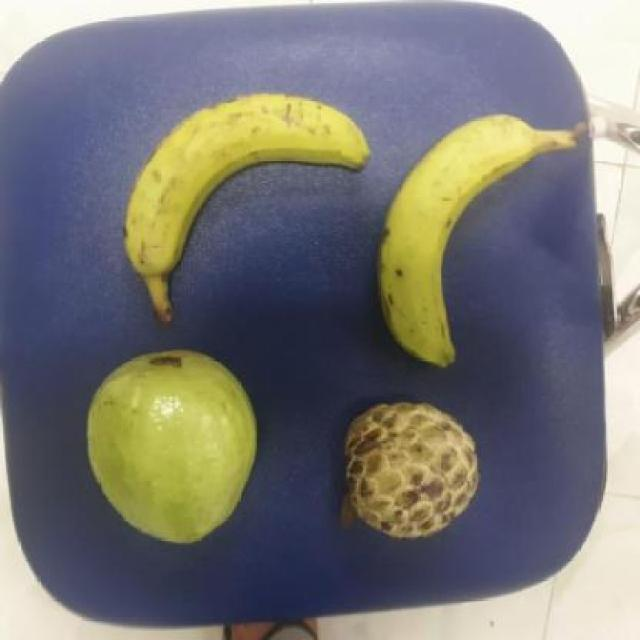banana: (118, 85, 378, 290), (373, 109, 547, 374)
guava: (85, 345, 260, 550)
sugar apple: (338, 392, 488, 548)
